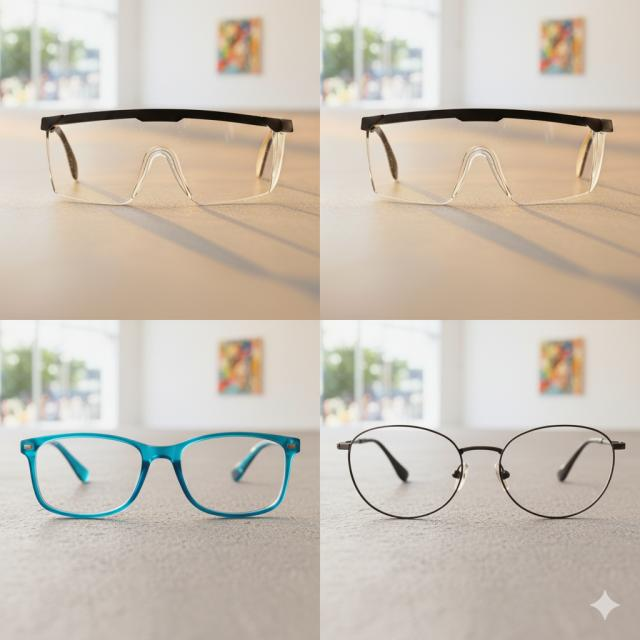oculos-epi: (41, 109, 292, 204), (363, 109, 604, 204)
sem_oculos: (337, 425, 625, 519), (20, 432, 299, 518)
